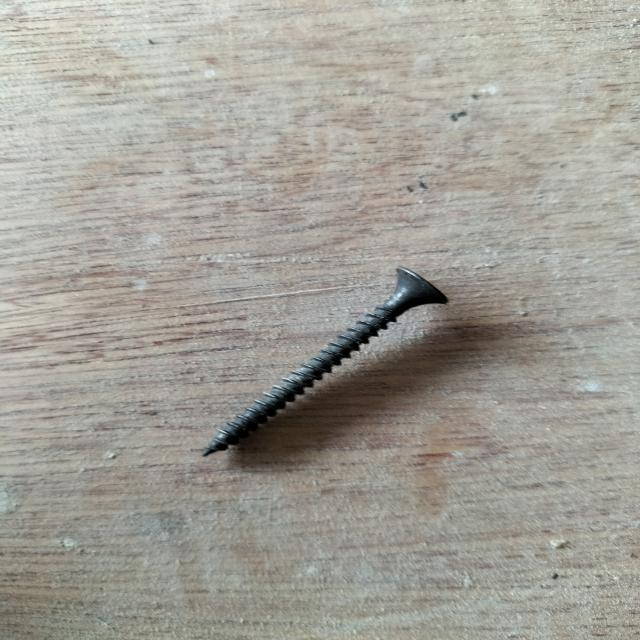screw: (201, 267, 449, 461)
